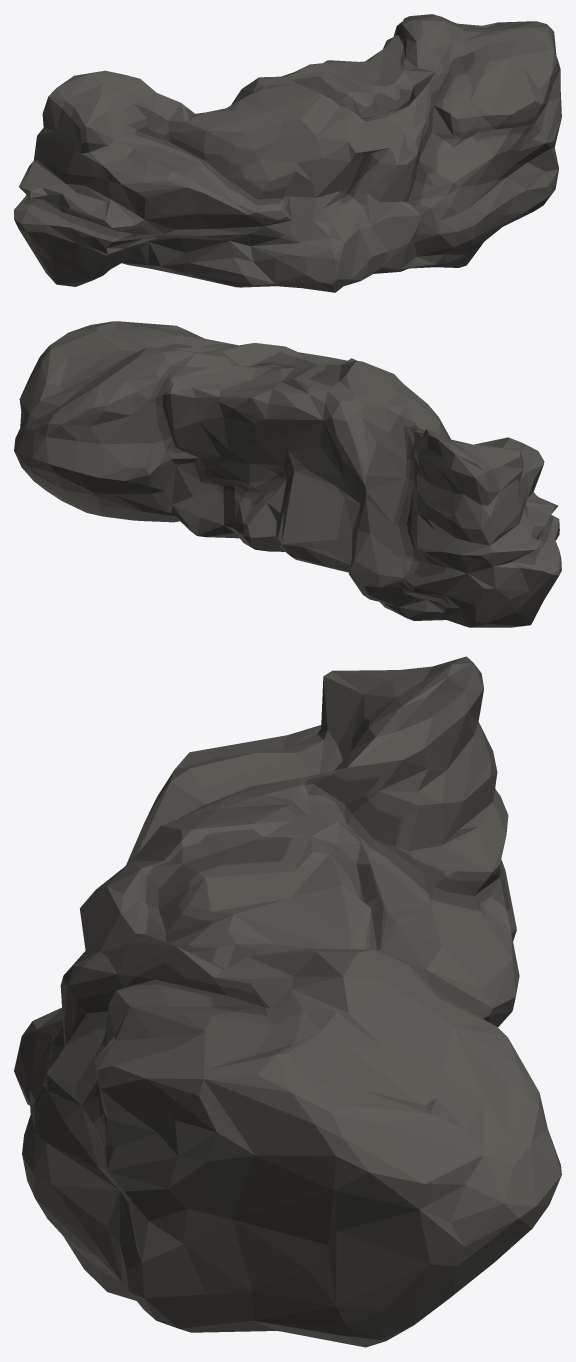
The model's file is SM_Env_Rock_Cliff_07.fbx.
3 renders of one model, top to bottom at view 1: azimuth 30°, elevation 25°; view 2: azimuth 150°, elevation 25°; view 3: azimuth 270°, elevation 25°, orthographic. The views are drawn at different scales.
Parts seen in each view (by area): view 1: SM_Env_Rock_Cliff_07; view 2: SM_Env_Rock_Cliff_07; view 3: SM_Env_Rock_Cliff_07.
Boxes of the visible parts, x1,y1,x2,y2 form: SM_Env_Rock_Cliff_07: [14, 14, 561, 292]; SM_Env_Rock_Cliff_07: [14, 321, 561, 627]; SM_Env_Rock_Cliff_07: [14, 656, 561, 1347].
Size of the model in its own units: 2878 by 1022 by 1386.
Materials: 1 (1 with a texture image).
